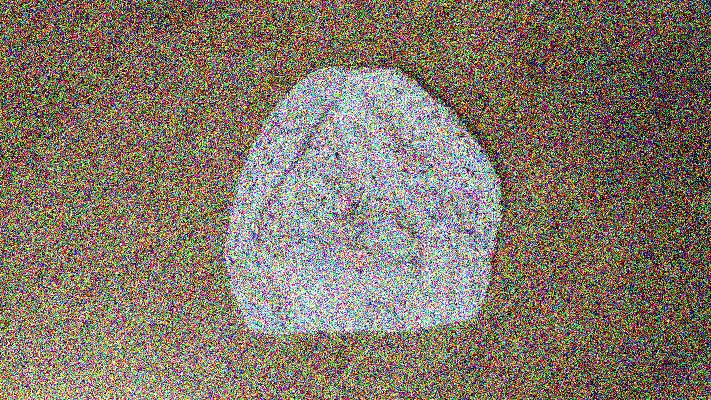Hat: (175, 41, 523, 348)
